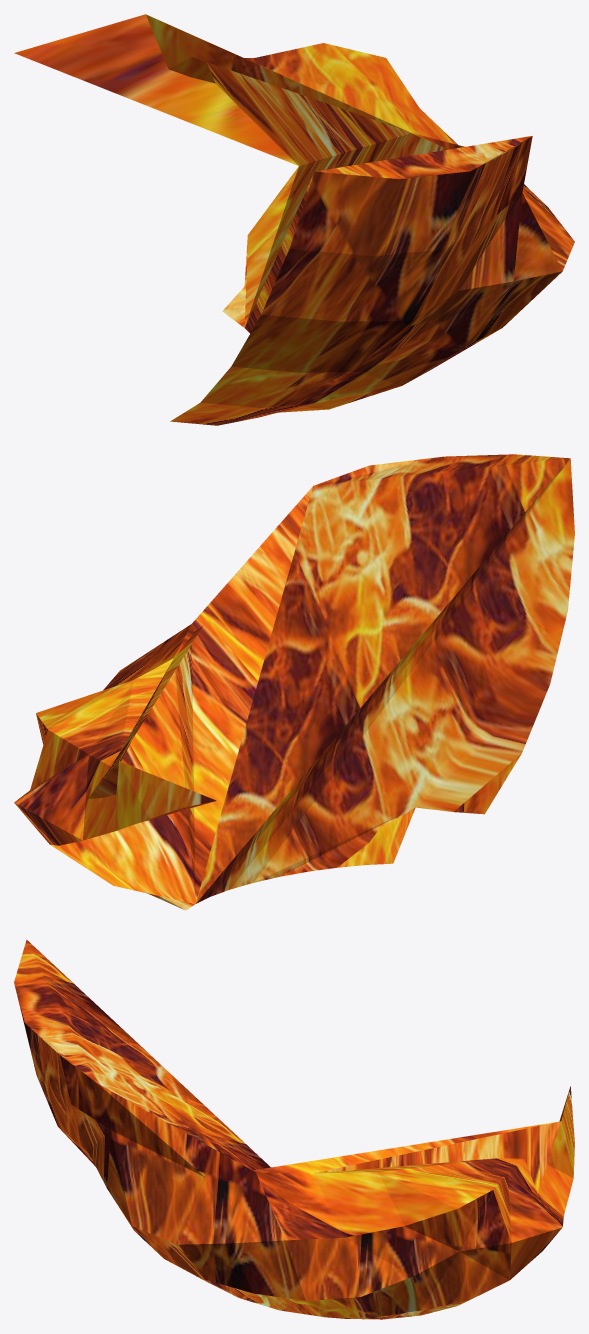
The model's file is ResultEarth2.obj.
The picture shows the model from 3 angles, top to bottom: view 1: azimuth 30°, elevation 25°; view 2: azimuth 150°, elevation 25°; view 3: azimuth 270°, elevation 25°; orthographic projection. The views are drawn at different scales.
Visible parts, largest first — view 1: 球.001; view 2: 球.001; view 3: 球.001.
Boxes of the visible parts, bbox=[...] form: 球.001: bbox=[14, 14, 574, 425]; 球.001: bbox=[14, 454, 574, 910]; 球.001: bbox=[14, 940, 574, 1319].
Bounding box in the file's own units: 1.03 × 0.9377 × 1.59.
1 material, 1 textured.
